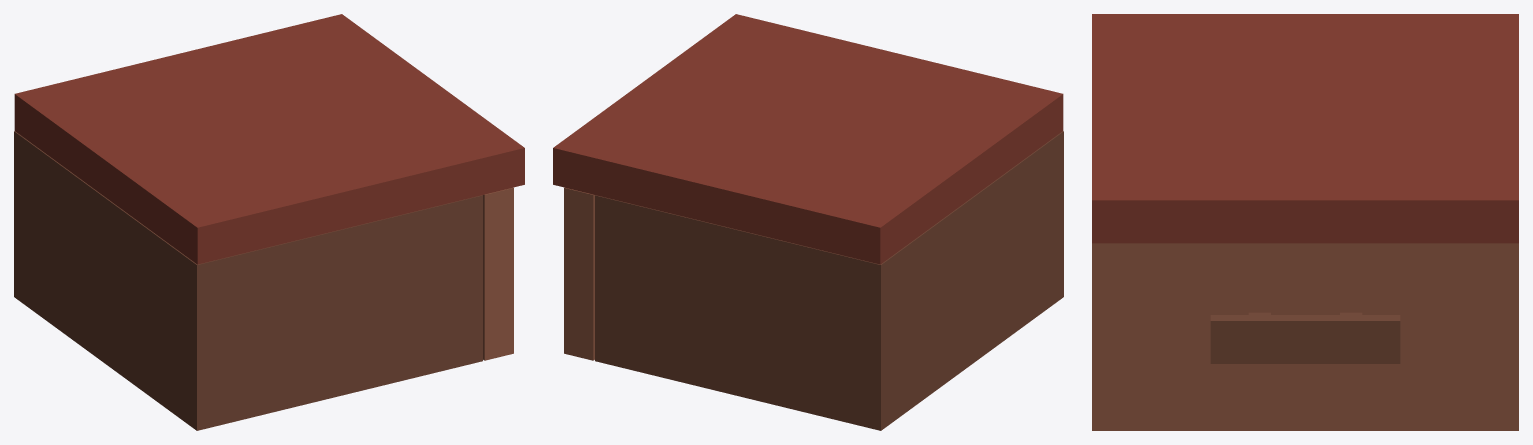
The model's file is countertop.glb.
3 views of the same model, side by side, from view 1: azimuth 30°, elevation 25°; view 2: azimuth 150°, elevation 25°; view 3: azimuth 270°, elevation 25° (orthographic). The views are drawn at different scales.
Visible parts, largest first — view 1: Cube, Cube.001, Cube.003; view 2: Cube, Cube.001, Cube.003; view 3: Cube.001, Cube.003, Cube.002.
Part boxes in pixels (<box>): Cube: <box>14,131,482,430</box>; Cube.001: <box>14,14,524,264</box>; Cube.003: <box>483,187,513,360</box>; Cube: <box>595,131,1063,430</box>; Cube.001: <box>553,14,1063,264</box>; Cube.003: <box>564,187,594,360</box>; Cube.001: <box>1092,14,1518,243</box>; Cube.003: <box>1092,243,1518,430</box>; Cube.002: <box>1210,312,1400,363</box>.
Size of the model in its own units: 1.88 by 1.1 by 1.8.
